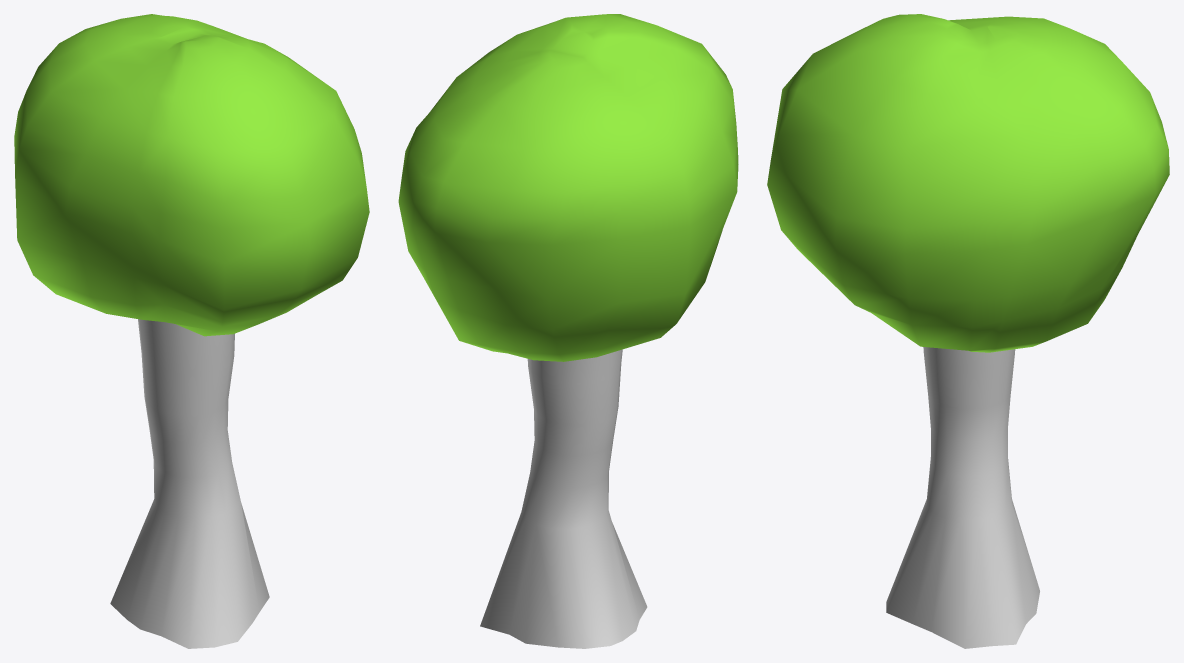
Rendered from Tree_Mesh.glb.
3 renders of one model, left to right at view 1: azimuth 30°, elevation 25°; view 2: azimuth 150°, elevation 25°; view 3: azimuth 270°, elevation 25°, orthographic.
Parts seen in each view (by area): view 1: TreeLeafs, Trunk; view 2: TreeLeafs, Trunk; view 3: TreeLeafs, Trunk.
Part boxes in pixels (x1,y1,x2,y2): TreeLeafs: [14, 14, 369, 336]; Trunk: [110, 319, 269, 648]; TreeLeafs: [398, 14, 738, 361]; Trunk: [480, 349, 647, 648]; TreeLeafs: [767, 14, 1169, 352]; Trunk: [886, 347, 1039, 648].
Bounding box in the file's own units: 3.12 × 5.97 × 3.74.
